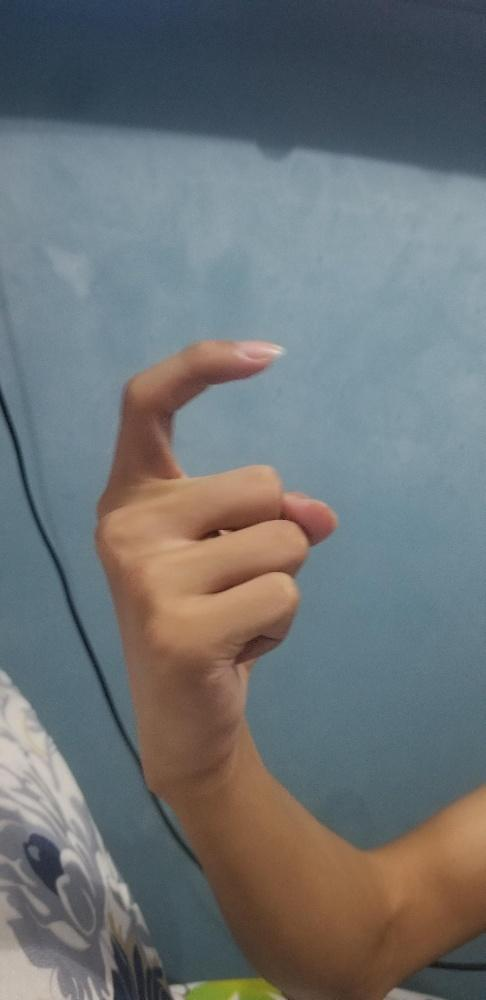x: (94, 334, 339, 790)
